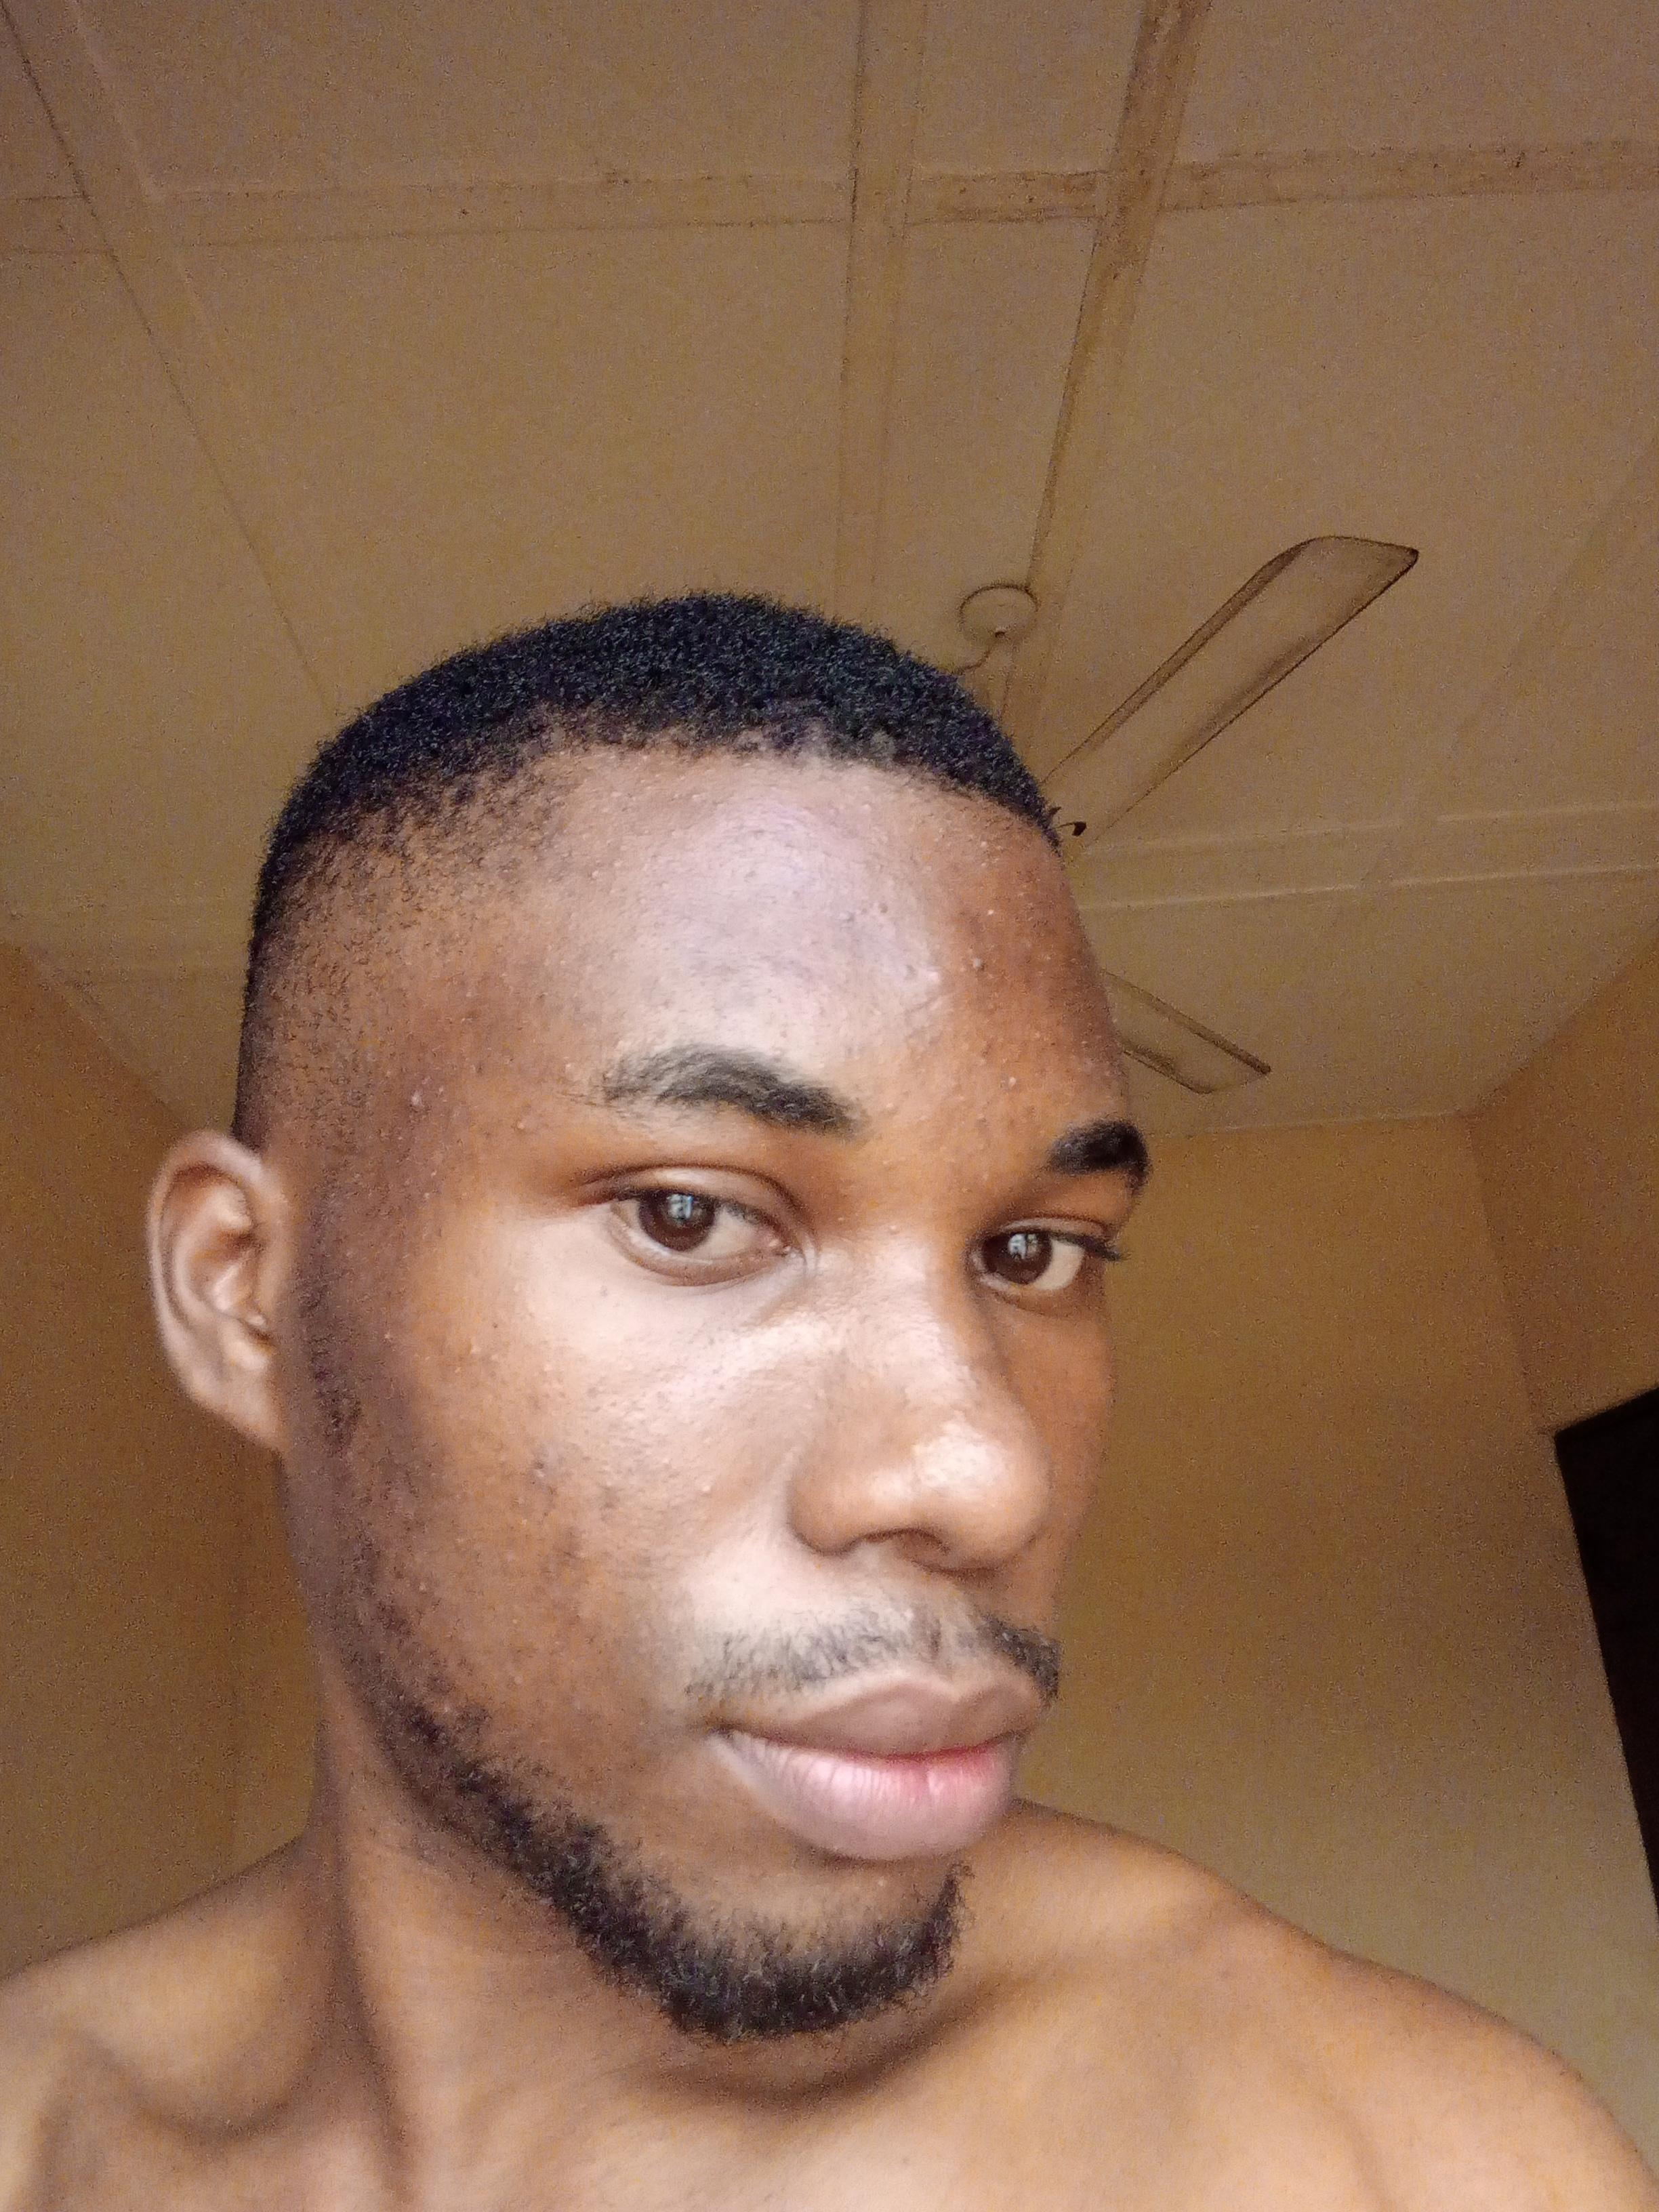Acne: (687, 960, 762, 1014), (903, 1409, 974, 1465), (458, 1338, 551, 1379), (972, 1031, 1019, 1094), (535, 1541, 589, 1590), (518, 1449, 570, 1498), (885, 954, 946, 993), (587, 1470, 641, 1510), (946, 1353, 981, 1395), (396, 1082, 430, 1116), (683, 1475, 727, 1503), (655, 787, 723, 803), (880, 1087, 911, 1120), (737, 862, 765, 894), (962, 1108, 997, 1130), (408, 1571, 436, 1599), (878, 1216, 904, 1245), (831, 900, 859, 927), (551, 1050, 579, 1076), (605, 1028, 629, 1057), (871, 892, 892, 923), (962, 951, 990, 974), (584, 860, 613, 881), (505, 1115, 532, 1137), (746, 822, 774, 841)
